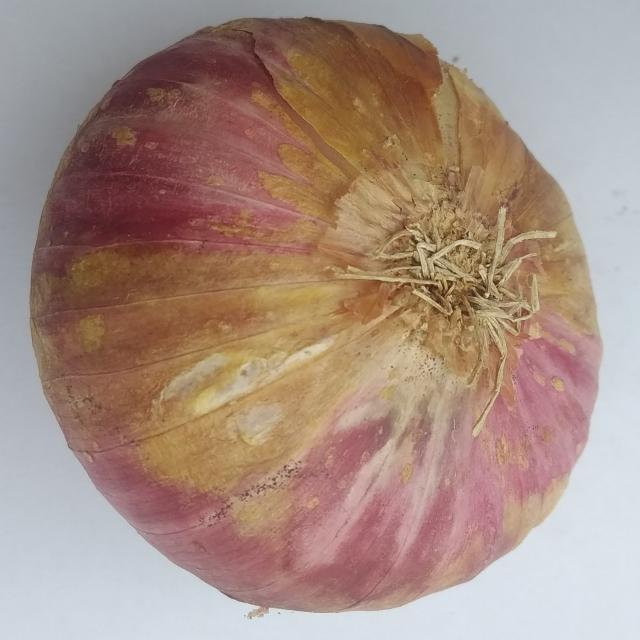onion: (28, 16, 604, 619)
